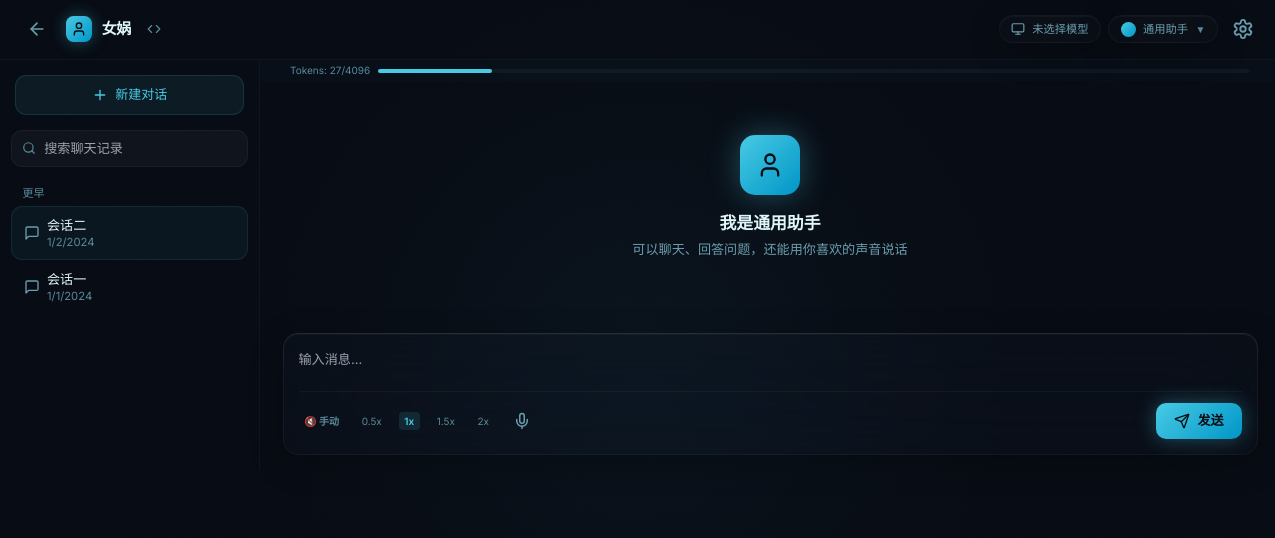
Scenario: ChatPage error handling & fallback › falls back to /api/chat when the agent stream cannot connect and no content yet (Req 6.2/6.3)
Type "你好" into the text box with placeholder "输入消息..." at (770, 361), box [298, 349, 1242, 373]
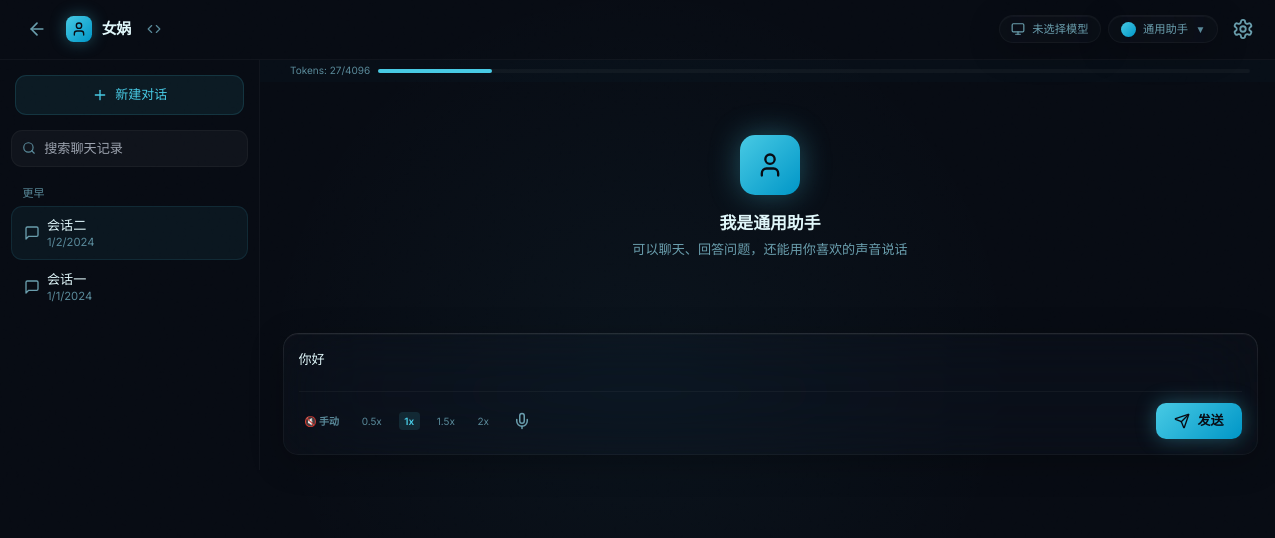
Click the button "发送" at (1199, 421), box [1156, 403, 1242, 439]
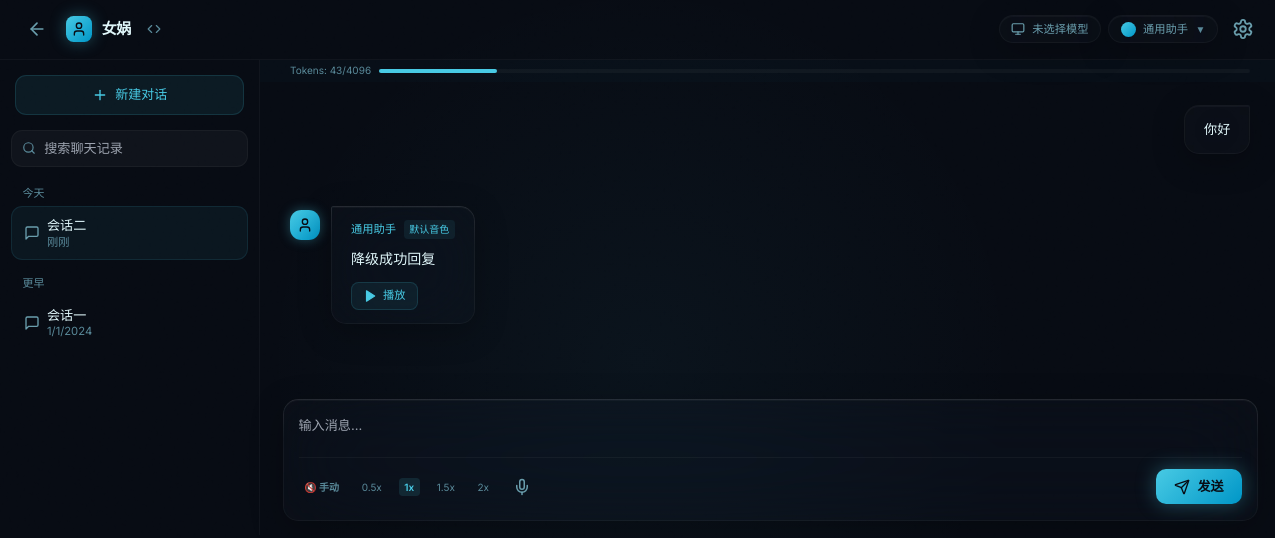
Now the text "降级成功回复" is shown, box [351, 250, 435, 267]
